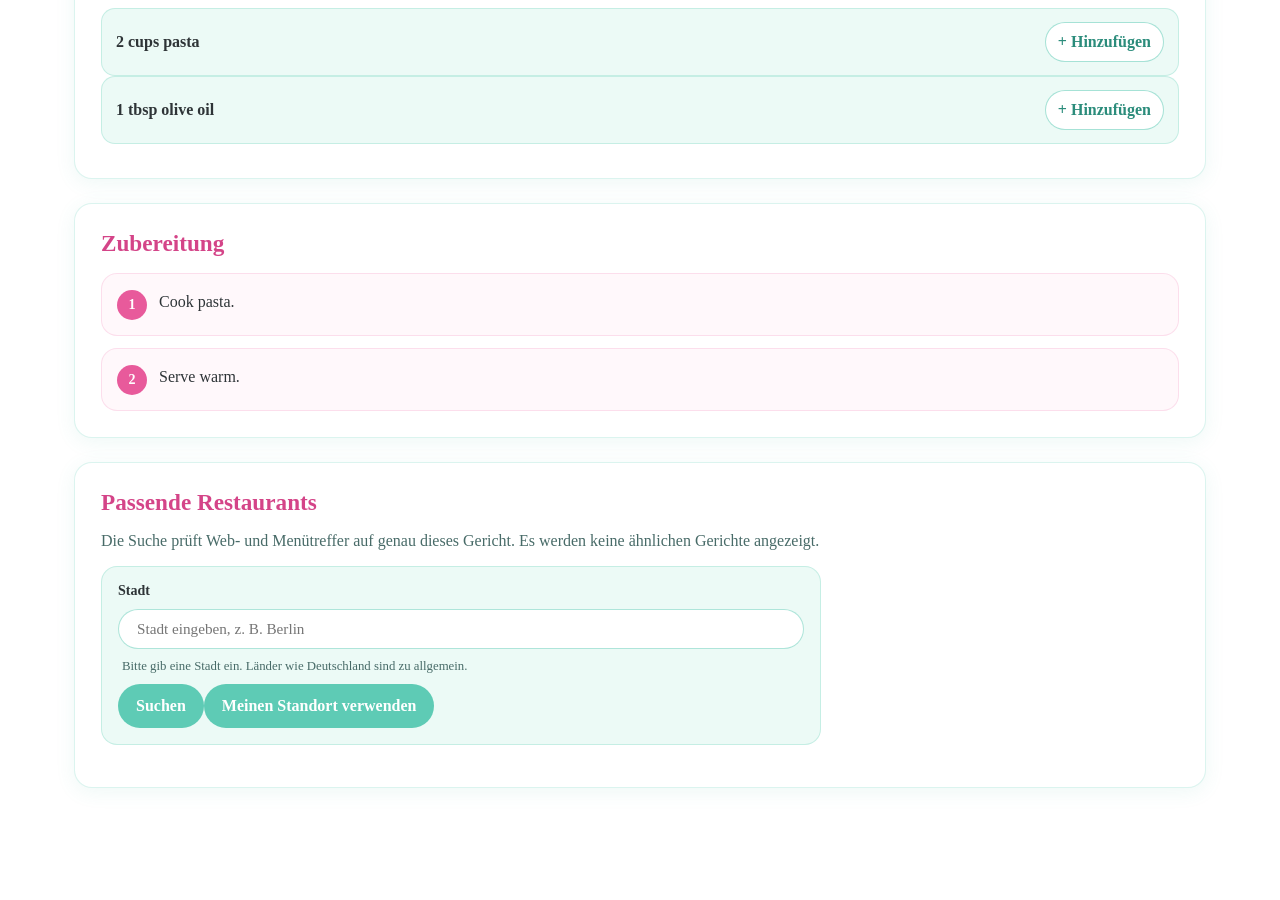
RecipeDetailView › searches restaurants with recipe title and text location
(page scrolled)
Type "Berlin" into the field with class "location-input" at [461, 628], box [118,608,804,648]
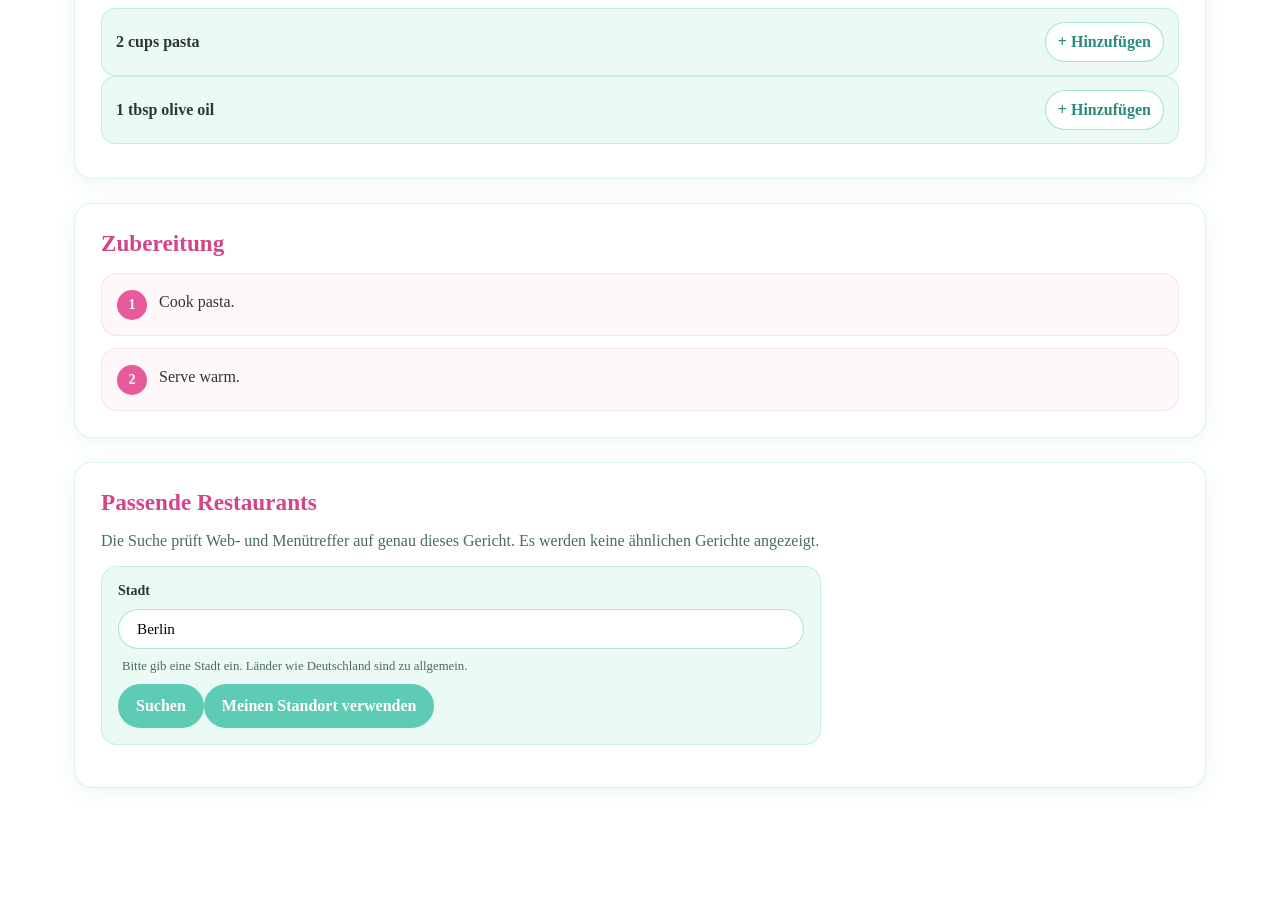
Click the button with class "restaurant-search-button" at [161, 706], box [118,684,204,728]
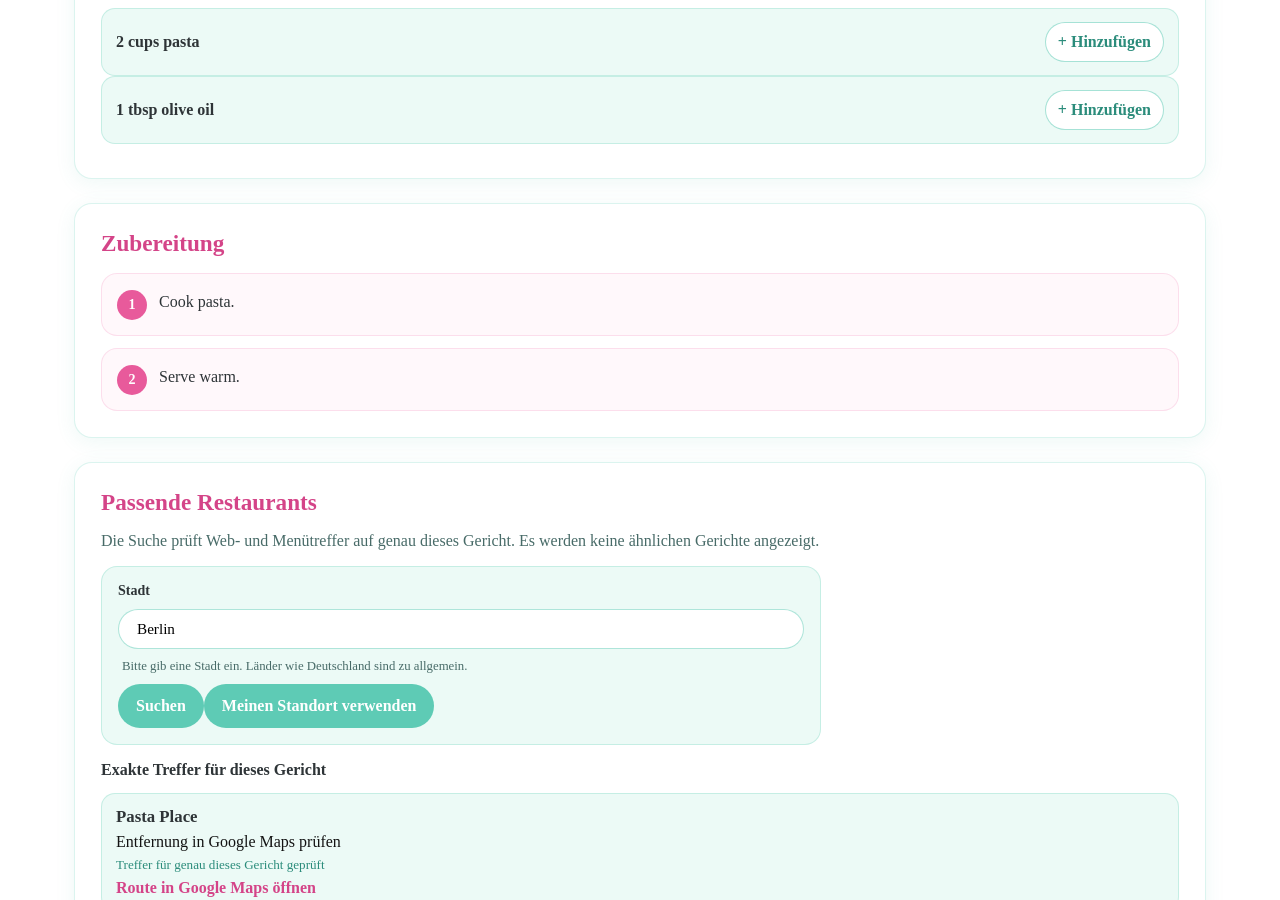
Now the text "Pasta Place" is shown, box [116,806,198,826]
